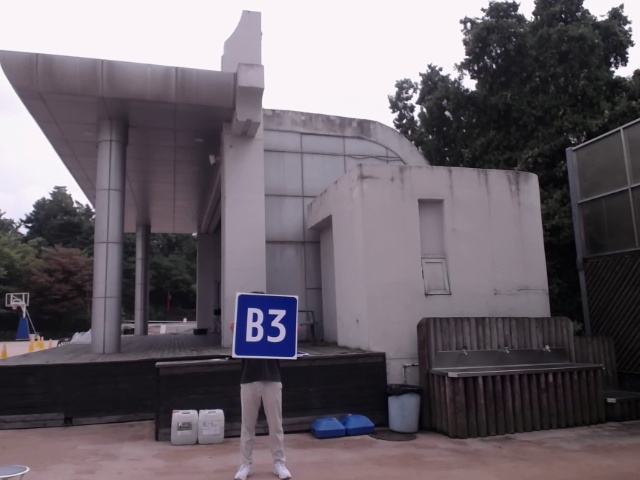delivery_b3: (236, 294, 296, 359)
